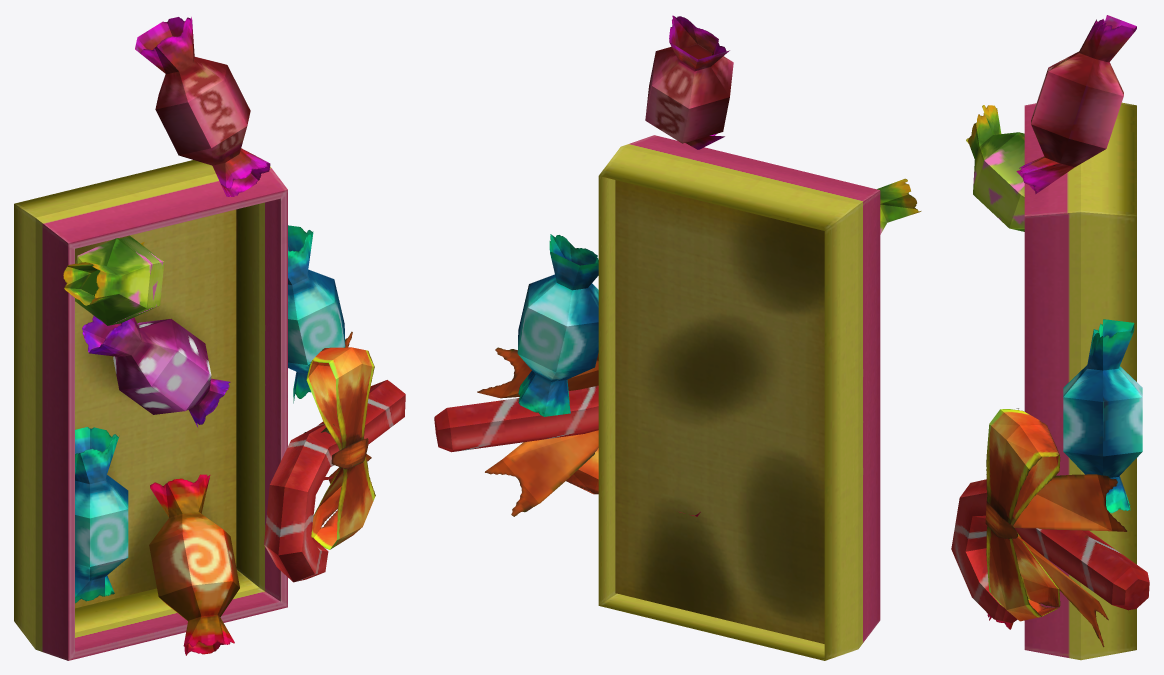
Rendered from shengdan_tangguo01.obj.
3 views of the same model, side by side, from view 1: azimuth 30°, elevation 25°; view 2: azimuth 150°, elevation 25°; view 3: azimuth 270°, elevation 25° (orthographic). The views are drawn at different scales.
Parts seen in each view (by area): view 1: shengdan_tangguo01; view 2: shengdan_tangguo01; view 3: shengdan_tangguo01.
Part boxes in pixels (bbox=[...]): shengdan_tangguo01: bbox=[14, 17, 405, 660]; shengdan_tangguo01: bbox=[434, 15, 921, 660]; shengdan_tangguo01: bbox=[951, 15, 1149, 660].
Bounding box in the file's own units: 43.03 × 60.48 × 17.43.
Materials: 2 (2 with a texture image).
